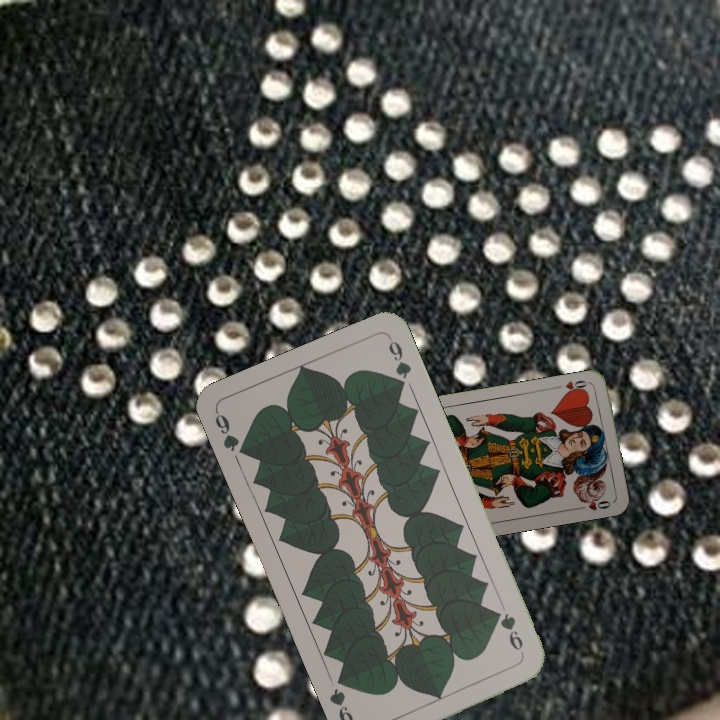G9: (211, 408, 252, 459), (491, 606, 527, 658)
HO: (552, 376, 593, 397)
